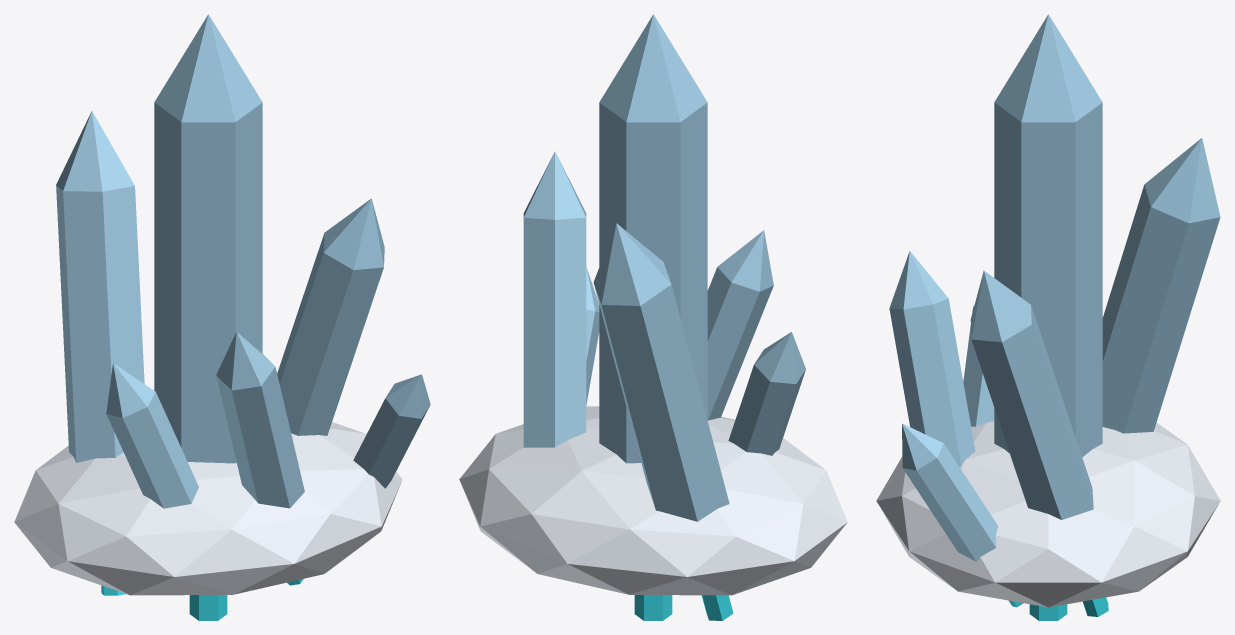
The model's file is ice_crystals.obj.
The picture shows the model from 3 angles, left to right: view 1: azimuth 30°, elevation 25°; view 2: azimuth 150°, elevation 25°; view 3: azimuth 270°, elevation 25°; orthographic projection.
Visible parts, largest first — view 1: ice_crystals_Glass_ice, ice_crystals_Main, ice_crystals_Neon_glow_cyan; view 2: ice_crystals_Glass_ice, ice_crystals_Main, ice_crystals_Neon_glow_cyan; view 3: ice_crystals_Glass_ice, ice_crystals_Main, ice_crystals_Neon_glow_cyan.
Part boxes in pixels (x1,y1,x2,y2): ice_crystals_Glass_ice: [56, 14, 430, 508]; ice_crystals_Main: [14, 422, 402, 595]; ice_crystals_Neon_glow_cyan: [101, 579, 303, 620]; ice_crystals_Glass_ice: [523, 14, 805, 521]; ice_crystals_Main: [459, 406, 847, 595]; ice_crystals_Neon_glow_cyan: [634, 595, 733, 620]; ice_crystals_Glass_ice: [889, 14, 1220, 561]; ice_crystals_Main: [876, 421, 1220, 607]; ice_crystals_Neon_glow_cyan: [1009, 597, 1108, 620].
Size of the model in its own units: 6.43 by 11 by 5.72.
1 material, 1 textured.
